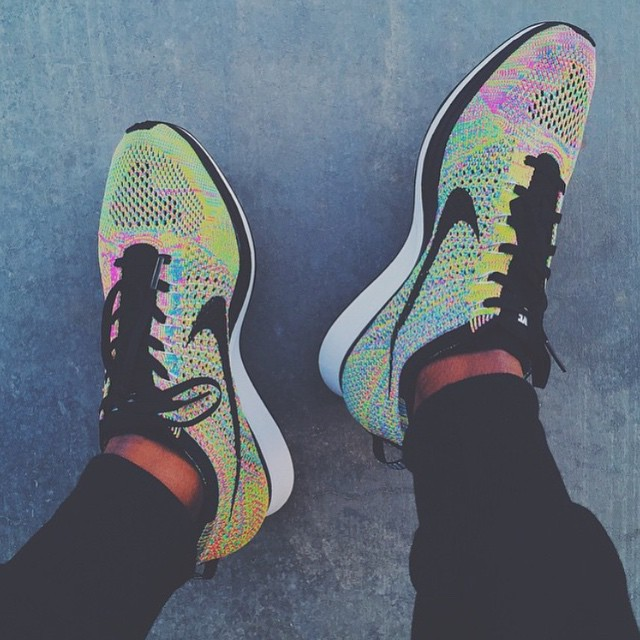sneaker: (302, 5, 619, 470), (60, 100, 322, 587)
